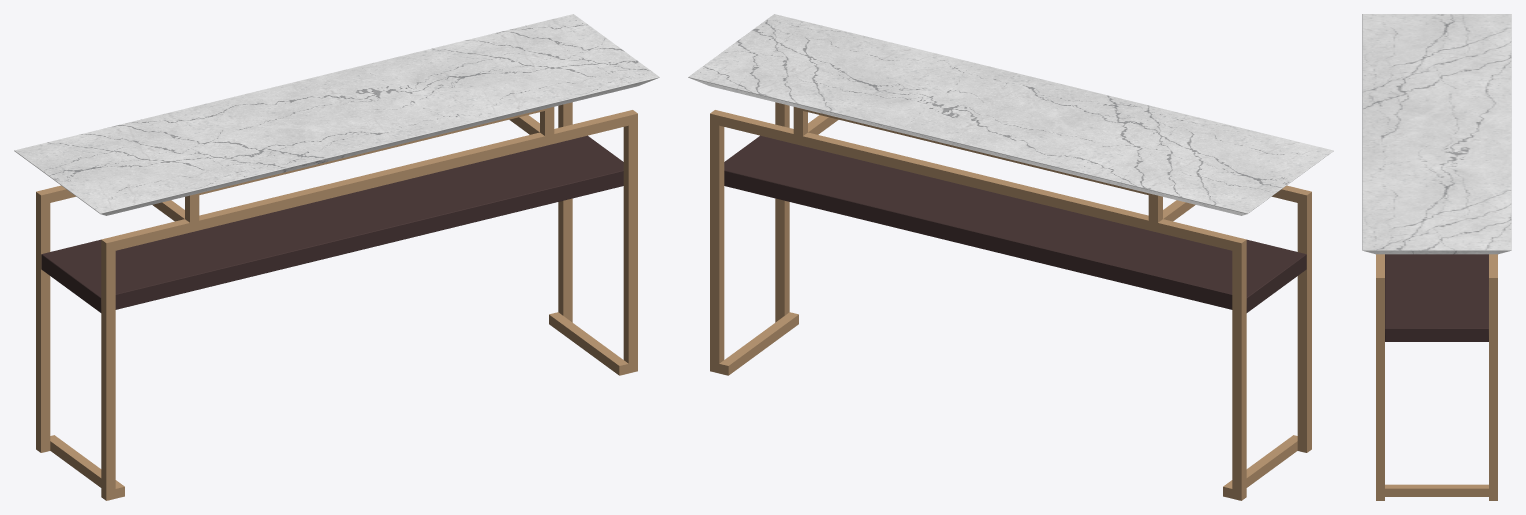
Rendered from ming_console_table.gltf.
3 renders of one model, left to right at view 1: azimuth 30°, elevation 25°; view 2: azimuth 150°, elevation 25°; view 3: azimuth 270°, elevation 25°, orthographic. The views are drawn at different scales.
Visible parts, largest first — view 1: mingconsoletable; view 2: mingconsoletable; view 3: mingconsoletable.
Boxes of the visible parts, <box> form: mingconsoletable: <box>14,14,659,500</box>; mingconsoletable: <box>688,14,1333,500</box>; mingconsoletable: <box>1362,14,1511,500</box>.
Bounding box in the file's own units: 1.5 × 0.76 × 0.4.
1 material, 1 textured.
